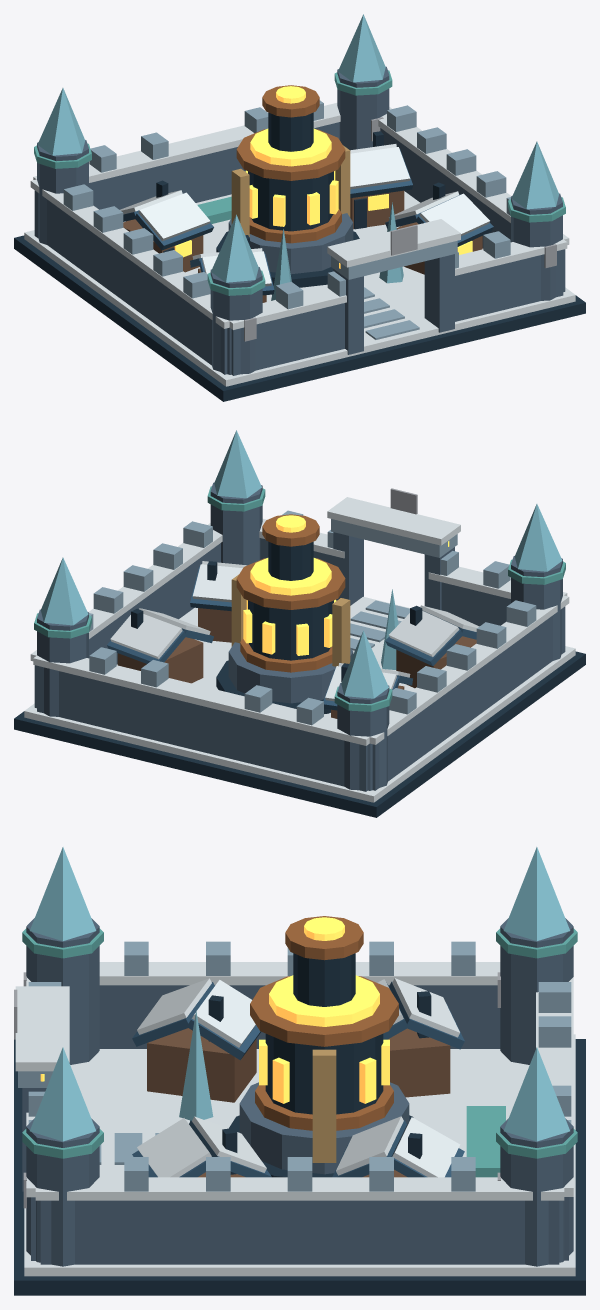
The model's file is aurora_neutral.glb.
The picture shows the model from 3 angles, top to bottom: view 1: azimuth 30°, elevation 25°; view 2: azimuth 150°, elevation 25°; view 3: azimuth 270°, elevation 25°; orthographic projection. The views are drawn at different scales.
Visible parts, largest first — view 1: aurora_neutral; view 2: aurora_neutral; view 3: aurora_neutral.
Boxes of the visible parts, <box> form: aurora_neutral: <box>14,14,585,401</box>; aurora_neutral: <box>14,430,585,817</box>; aurora_neutral: <box>14,847,585,1295</box>.
Size of the model in its own units: 2.19 by 1.05 by 2.19.
